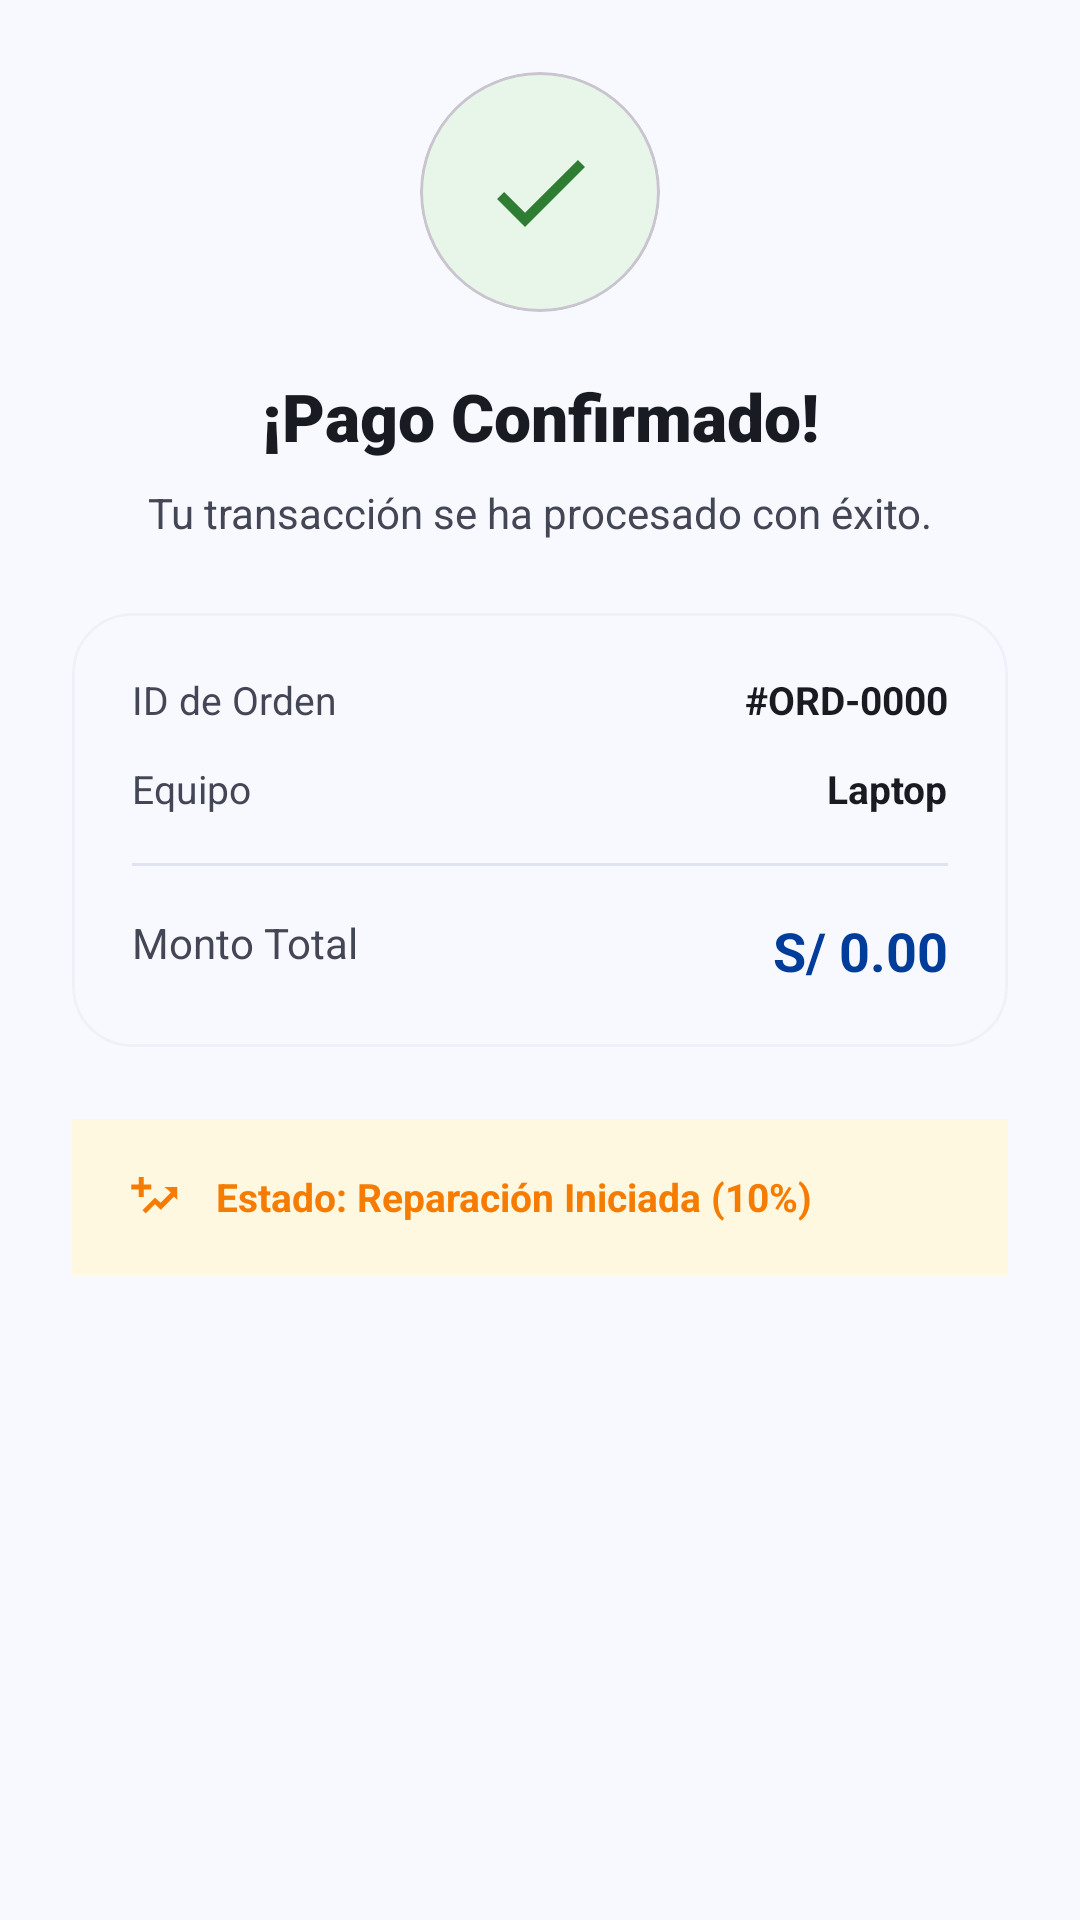

Icon click points for this 1080 x 1920 phone screenshot, format (x,y):
check: (540,192)
